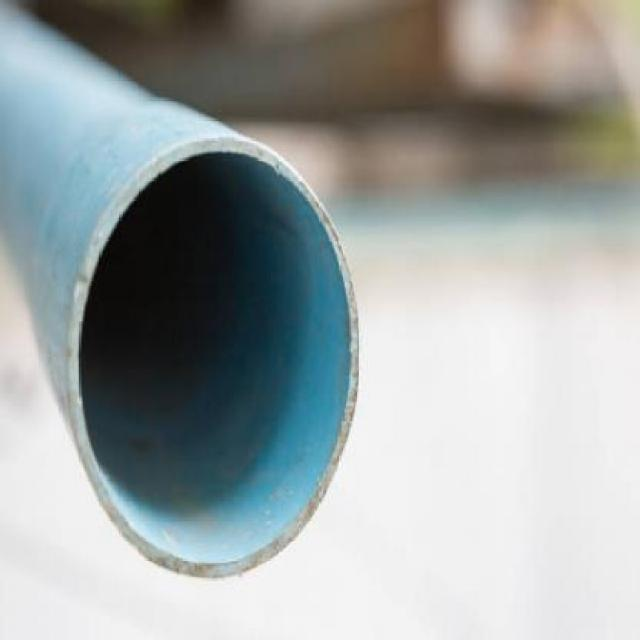pipe: (69, 138, 360, 580)
